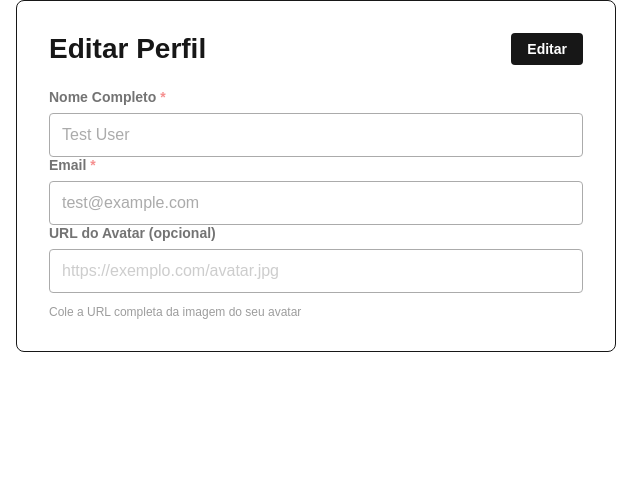
Test: ProfileForm › should validate email format
This screenshot has width=633, height=481.
Click the button "Editar" at coordinates (547, 49), box [511,33,583,65]
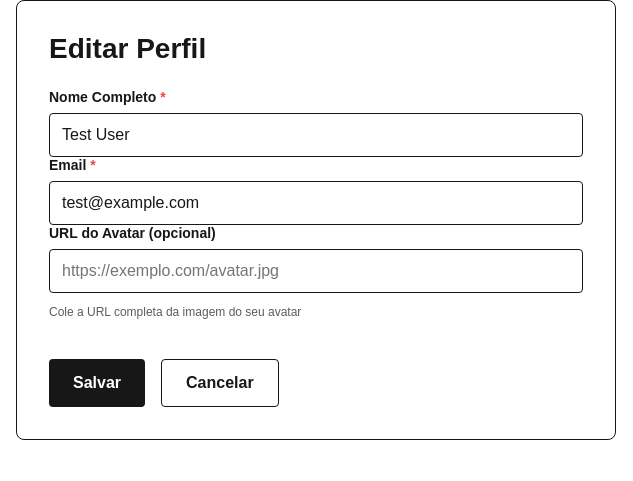
Replace the text in the field labelled "Email *" with "not-an-email" at coordinates (316, 203), box [49,181,583,225]
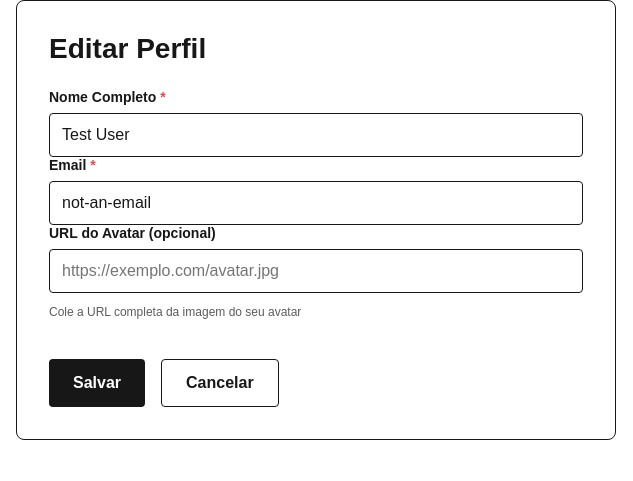
Click the button "Salvar" at coordinates (97, 383), box [49,359,145,407]
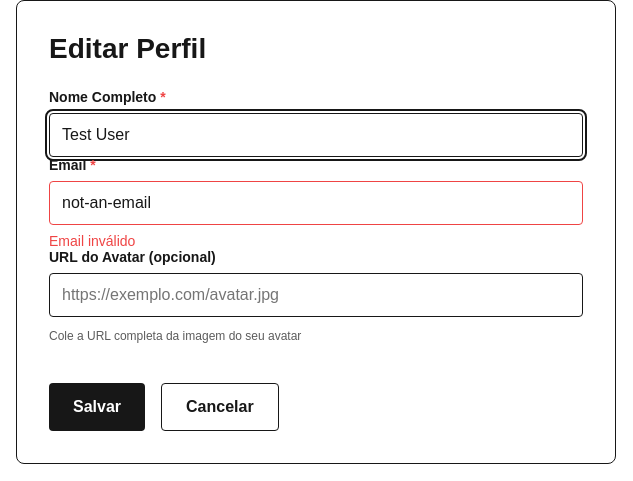
expect the text "Email inválido" is shown: met, box [49,233,135,249]
